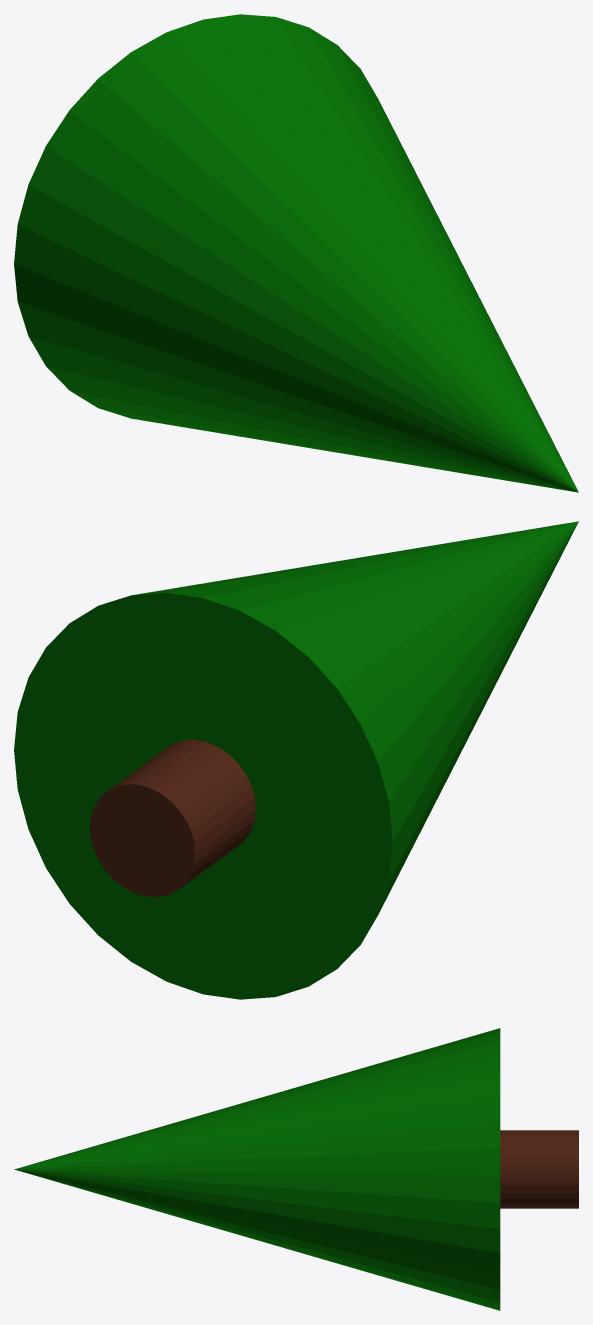
File: tree_smaller.obj
The picture shows the model from 3 angles, top to bottom: view 1: azimuth 30°, elevation 25°; view 2: azimuth 150°, elevation 25°; view 3: azimuth 270°, elevation 25°; orthographic projection. The views are drawn at different scales.
Visible parts, largest first — view 1: Cylinder; view 2: Cylinder; view 3: Cylinder.
Boxes of the visible parts, bbox=[...] form: Cylinder: bbox=[14, 14, 578, 492]; Cylinder: bbox=[14, 521, 578, 999]; Cylinder: bbox=[14, 1028, 578, 1310].
Size of the model in its own units: 87.34 by 87.34 by 174.
